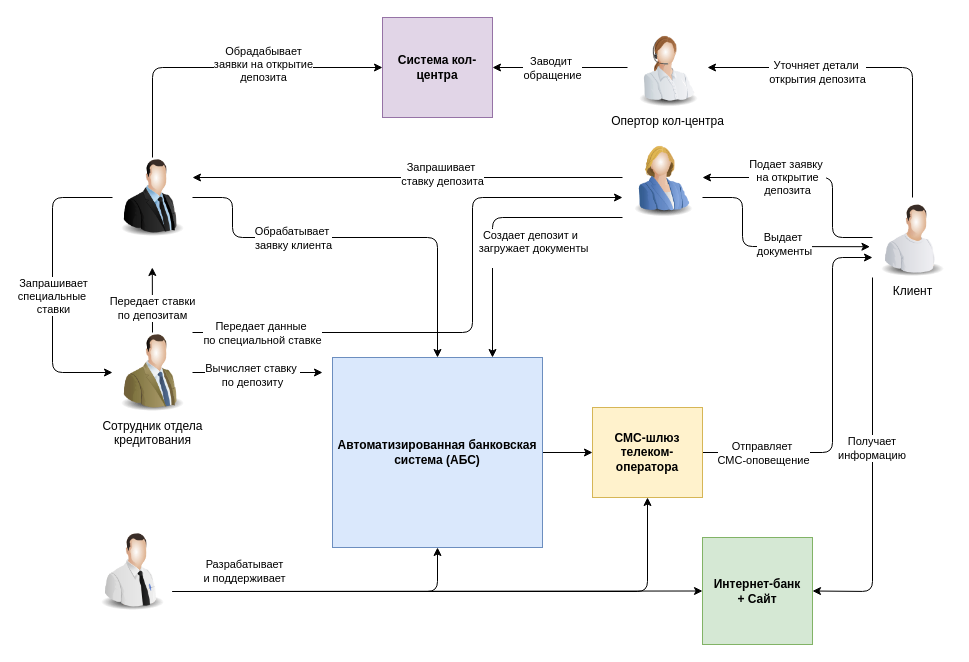
The diagram is 969 pixels wide and 662 high, and some of its shapes have lost their labels. The box of each missing label's shape, as (x1, y1, x2, y2) in pixels:
Сотрудник IT-отдела: (92, 531, 172, 611)
Сотрудник бэк-офиса: (112, 157, 192, 237)
Сотрудник фронт-офиса: (622, 137, 702, 217)
